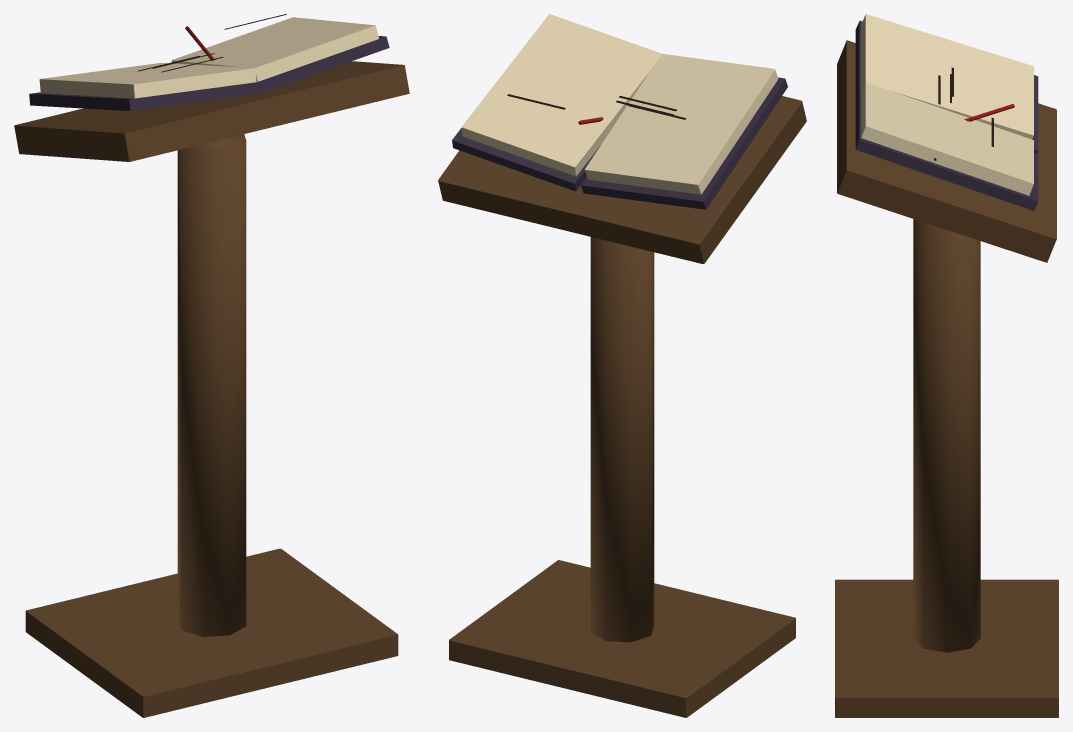
File: waechterbuch.glb
3 views of the same model, side by side, from view 1: azimuth 30°, elevation 25°; view 2: azimuth 150°, elevation 25°; view 3: azimuth 270°, elevation 25° (orthographic). The views are drawn at different scales.
Visible parts, largest first — view 1: Cone; view 2: Cone; view 3: Cone.
Boxes of the visible parts, <box> form: Cone: <box>14,14,409,717</box>; Cone: <box>438,14,806,717</box>; Cone: <box>835,14,1058,717</box>.
Bounding box in the file's own units: 0.55 × 1.16 × 0.4.
